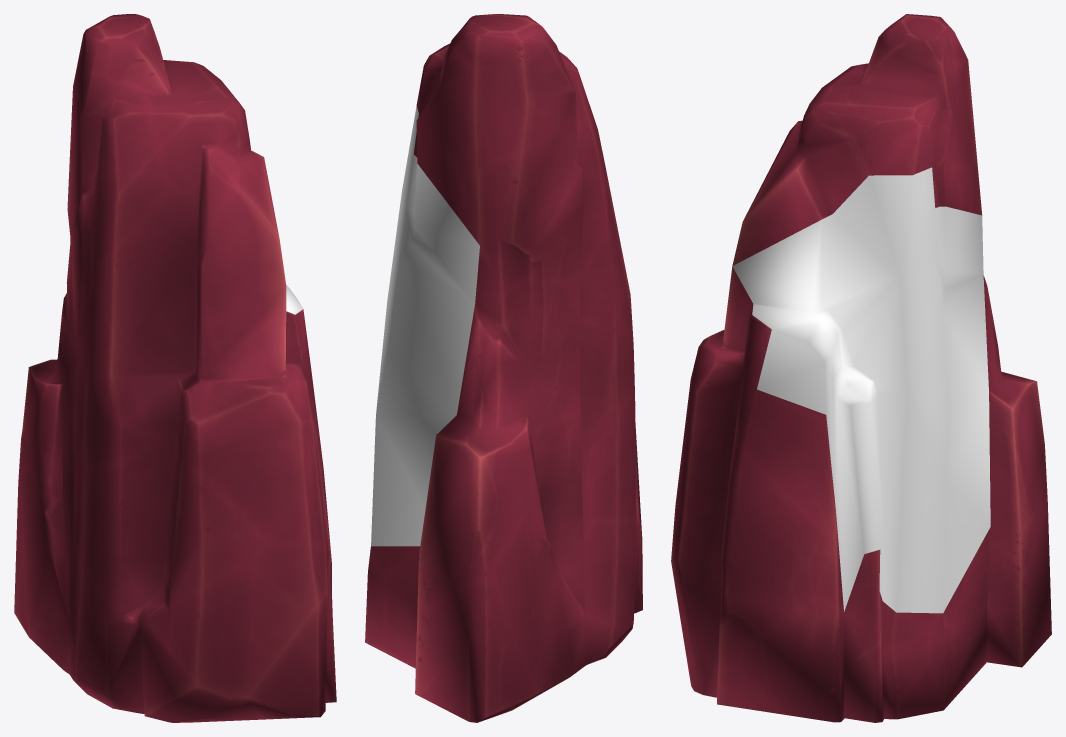
The model's file is CarEnter_00005_002_shuijingda_02.fbx.
3 views of the same model, side by side, from view 1: azimuth 30°, elevation 25°; view 2: azimuth 150°, elevation 25°; view 3: azimuth 270°, elevation 25° (orthographic). The views are drawn at different scales.
Parts seen in each view (by area): view 1: CarEnter_00005_002_shuijingda; view 2: CarEnter_00005_002_shuijingda; view 3: CarEnter_00005_002_shuijingda.
Part boxes in pixels (left/top/right/bottom): CarEnter_00005_002_shuijingda: left=14, top=14, right=336, bottom=722; CarEnter_00005_002_shuijingda: left=365, top=14, right=642, bottom=722; CarEnter_00005_002_shuijingda: left=671, top=14, right=1051, bottom=722.
Size of the model in its own units: 12.53 by 33.1 by 18.31.
